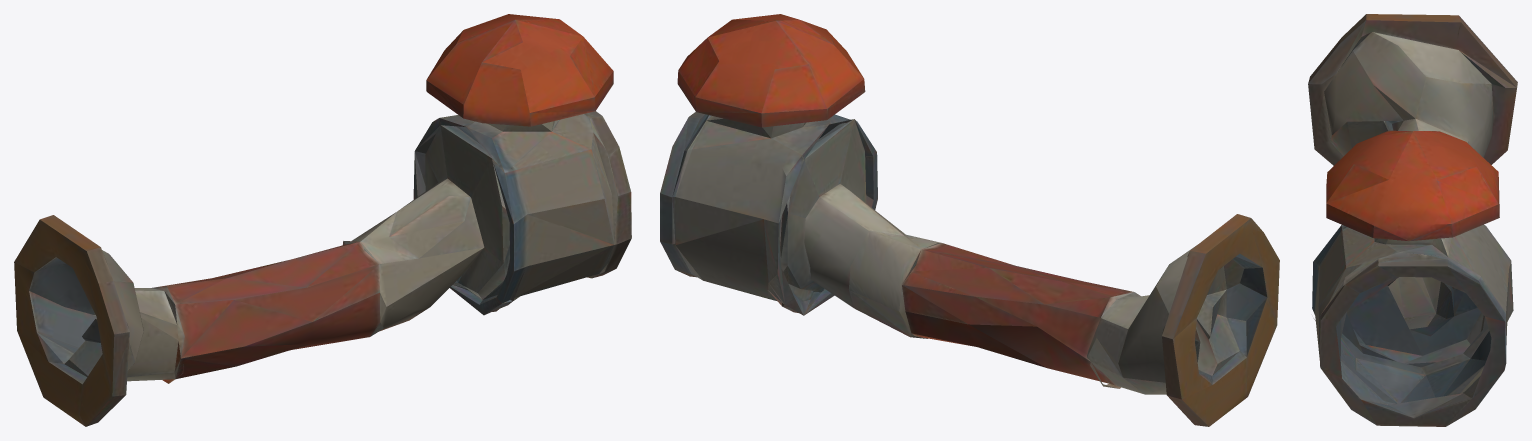
File: roofVent.glb
The picture shows the model from 3 angles, left to right: view 1: azimuth 30°, elevation 25°; view 2: azimuth 150°, elevation 25°; view 3: azimuth 270°, elevation 25°; orthographic projection.
Bounding box in the file's own units: 1.9 × 0.9535 × 0.6391.
1 material, 1 textured.
